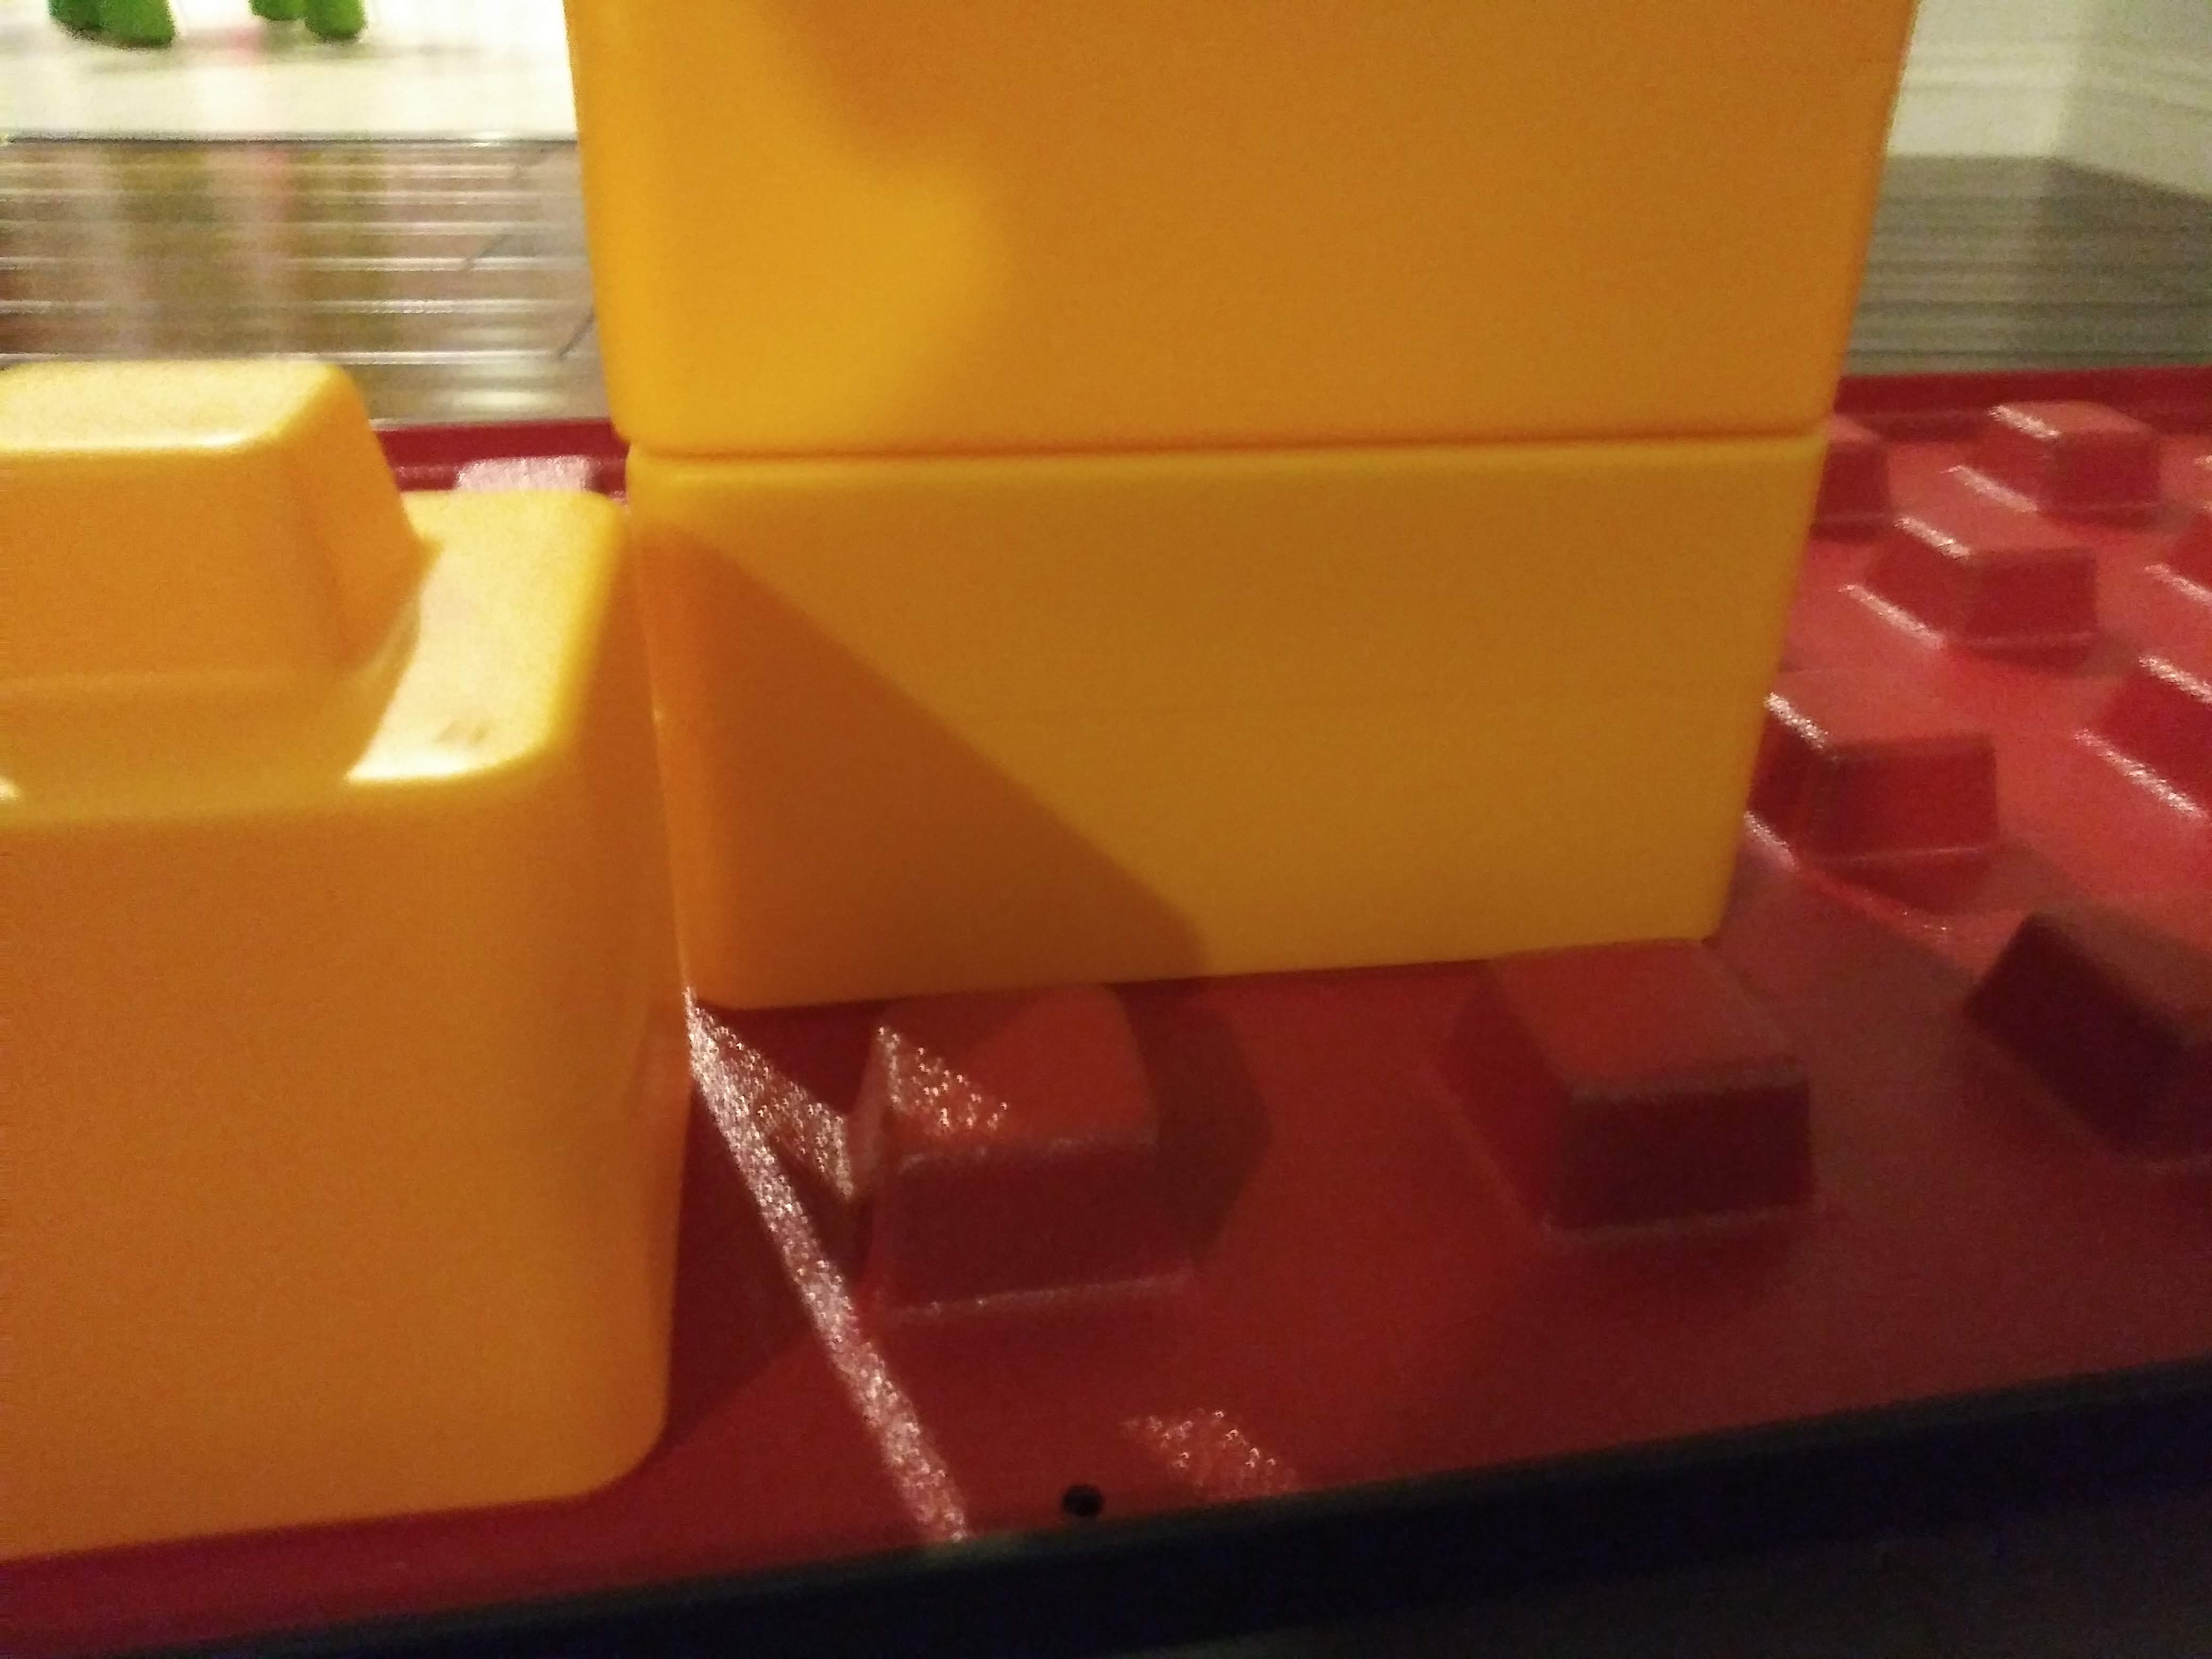red foundation: (92, 328, 2175, 1333)
